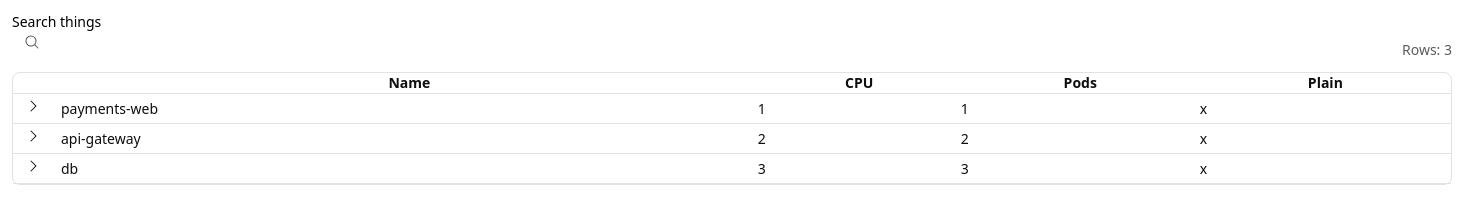
keyboard movement between rows › does nothing while focus is not on an opener
Click the search field labelled "Search things" at (128, 48), box [12,36,243,60]
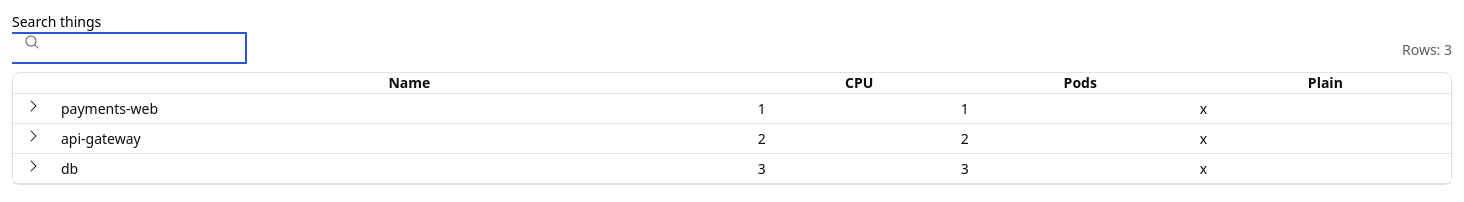
Type keys "j"
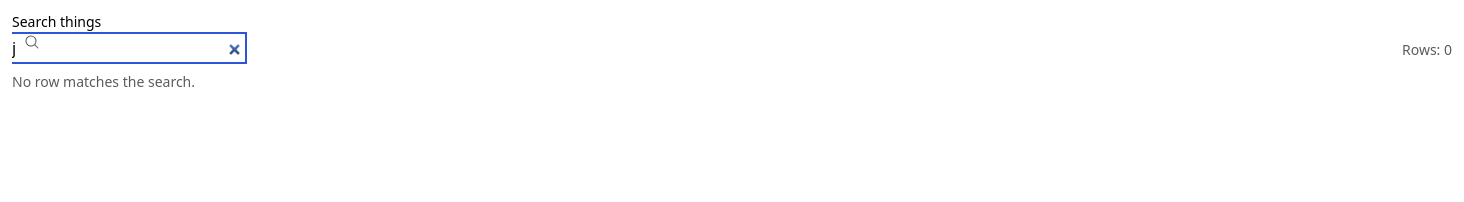
Expected: the search field labelled "Search things" holds "j", [12,36,243,60]
